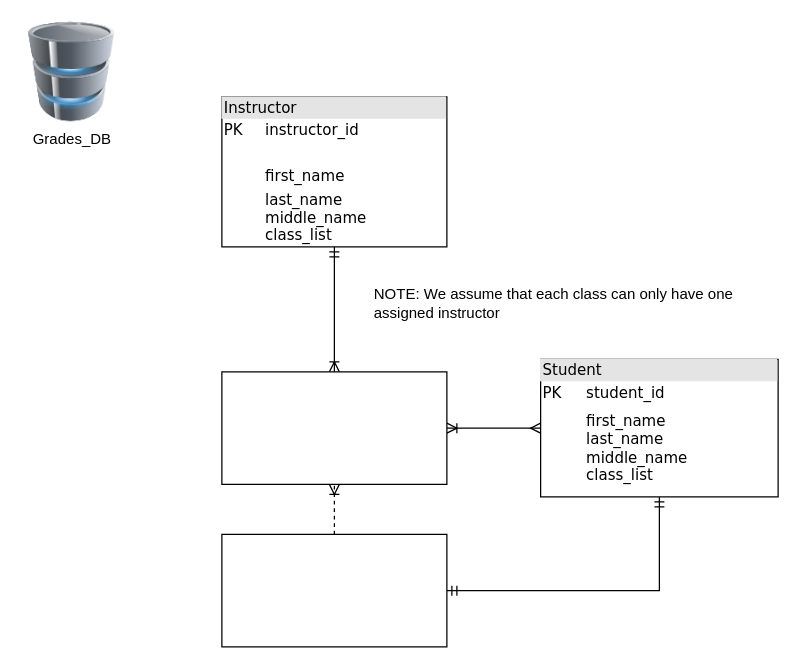
The diagram is 800 pixels wide and 669 high, and some of its shapes have lost their labels. Here are the shapes that lost their labels. From the top down, the centre of each, then its label:
point 334,427: Class PK1composite PK2composite subject class_id FK instructor_id
point 334,590: Transcript PK,FK student_id FK1composite subject FK2composite class_id grade
